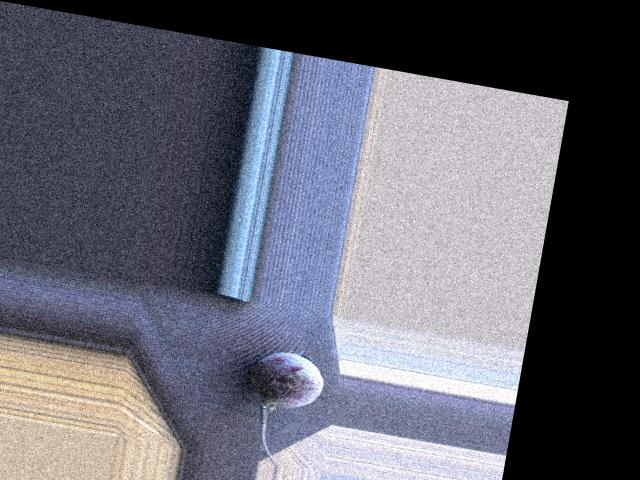beet: (236, 346, 327, 470)
